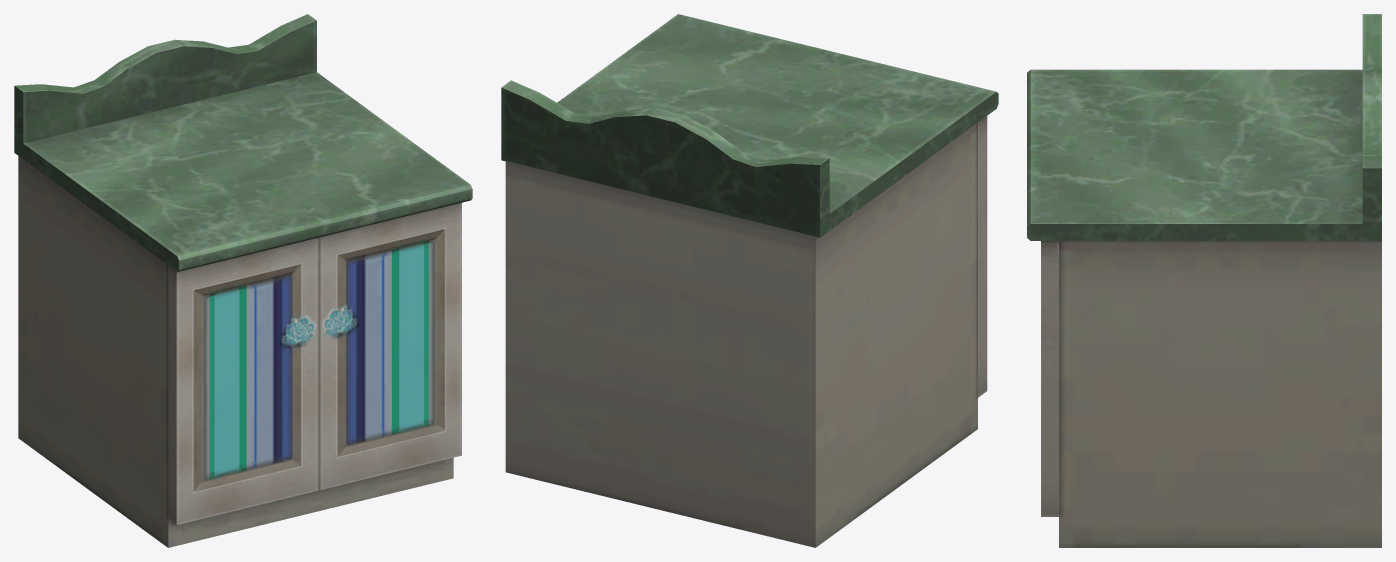
File: furni_0200616_03.FBX
The picture shows the model from 3 angles, left to right: view 1: azimuth 30°, elevation 25°; view 2: azimuth 150°, elevation 25°; view 3: azimuth 270°, elevation 25°; orthographic projection. The views are drawn at different scales.
Parts seen in each view (by area): view 1: furni_0200616_03; view 2: furni_0200616_03; view 3: furni_0200616_03.
Boxes of the visible parts, x1,y1,x2,y2 form: furni_0200616_03: [14, 14, 472, 547]; furni_0200616_03: [501, 14, 998, 547]; furni_0200616_03: [1027, 14, 1381, 547].
Size of the model in its own units: 82.23 by 96.53 by 79.84.
Materials: 1 (1 with a texture image).
